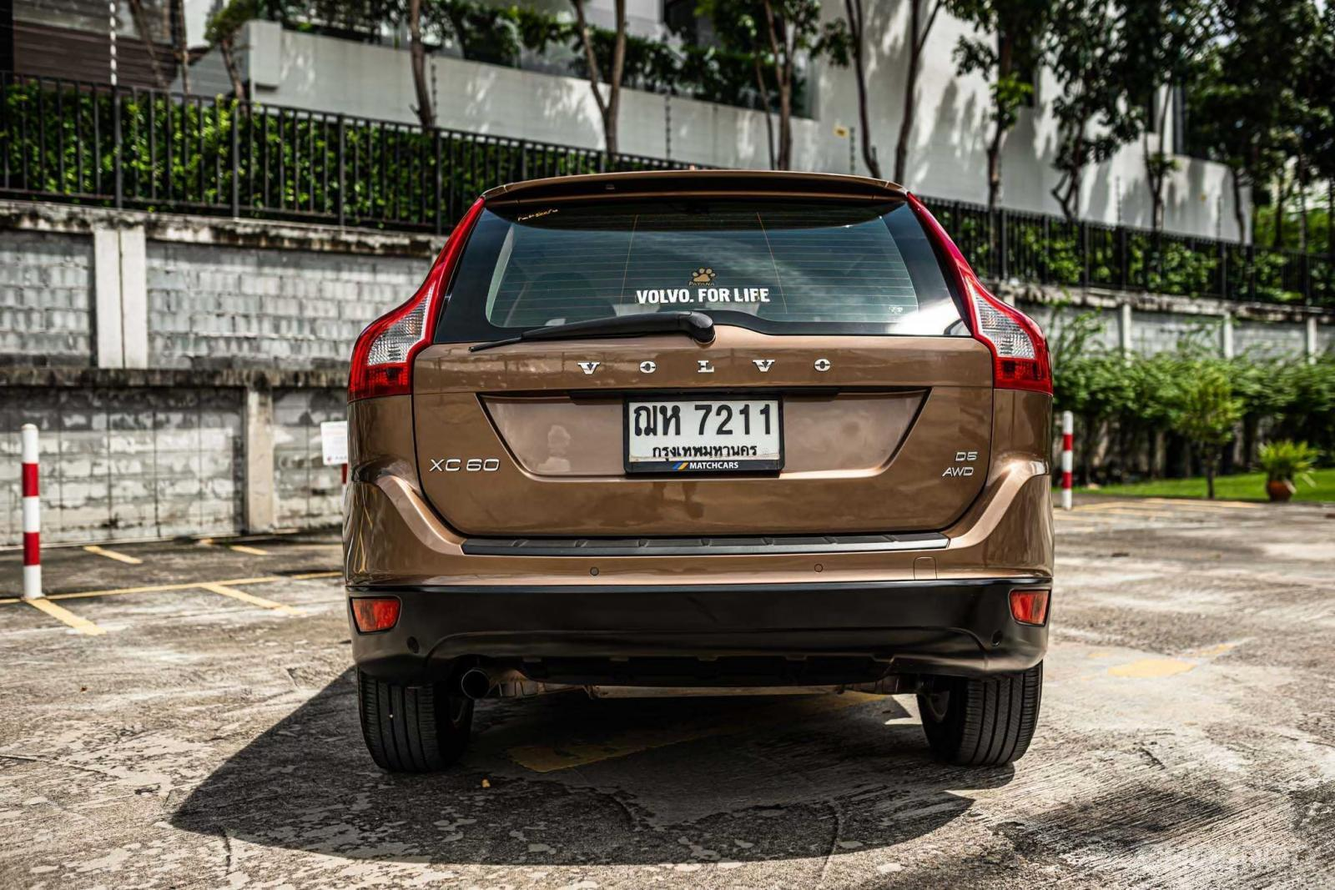license-plate: (615, 387, 790, 484)
